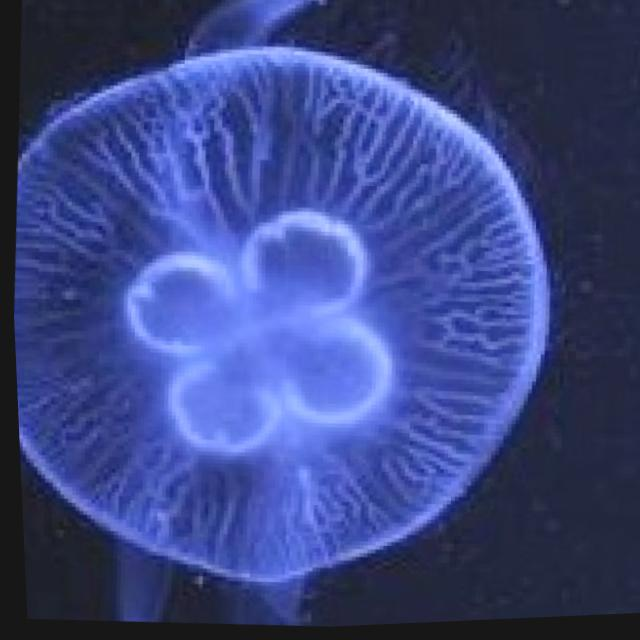Moon-jellyfish: (0, 0, 589, 623)
